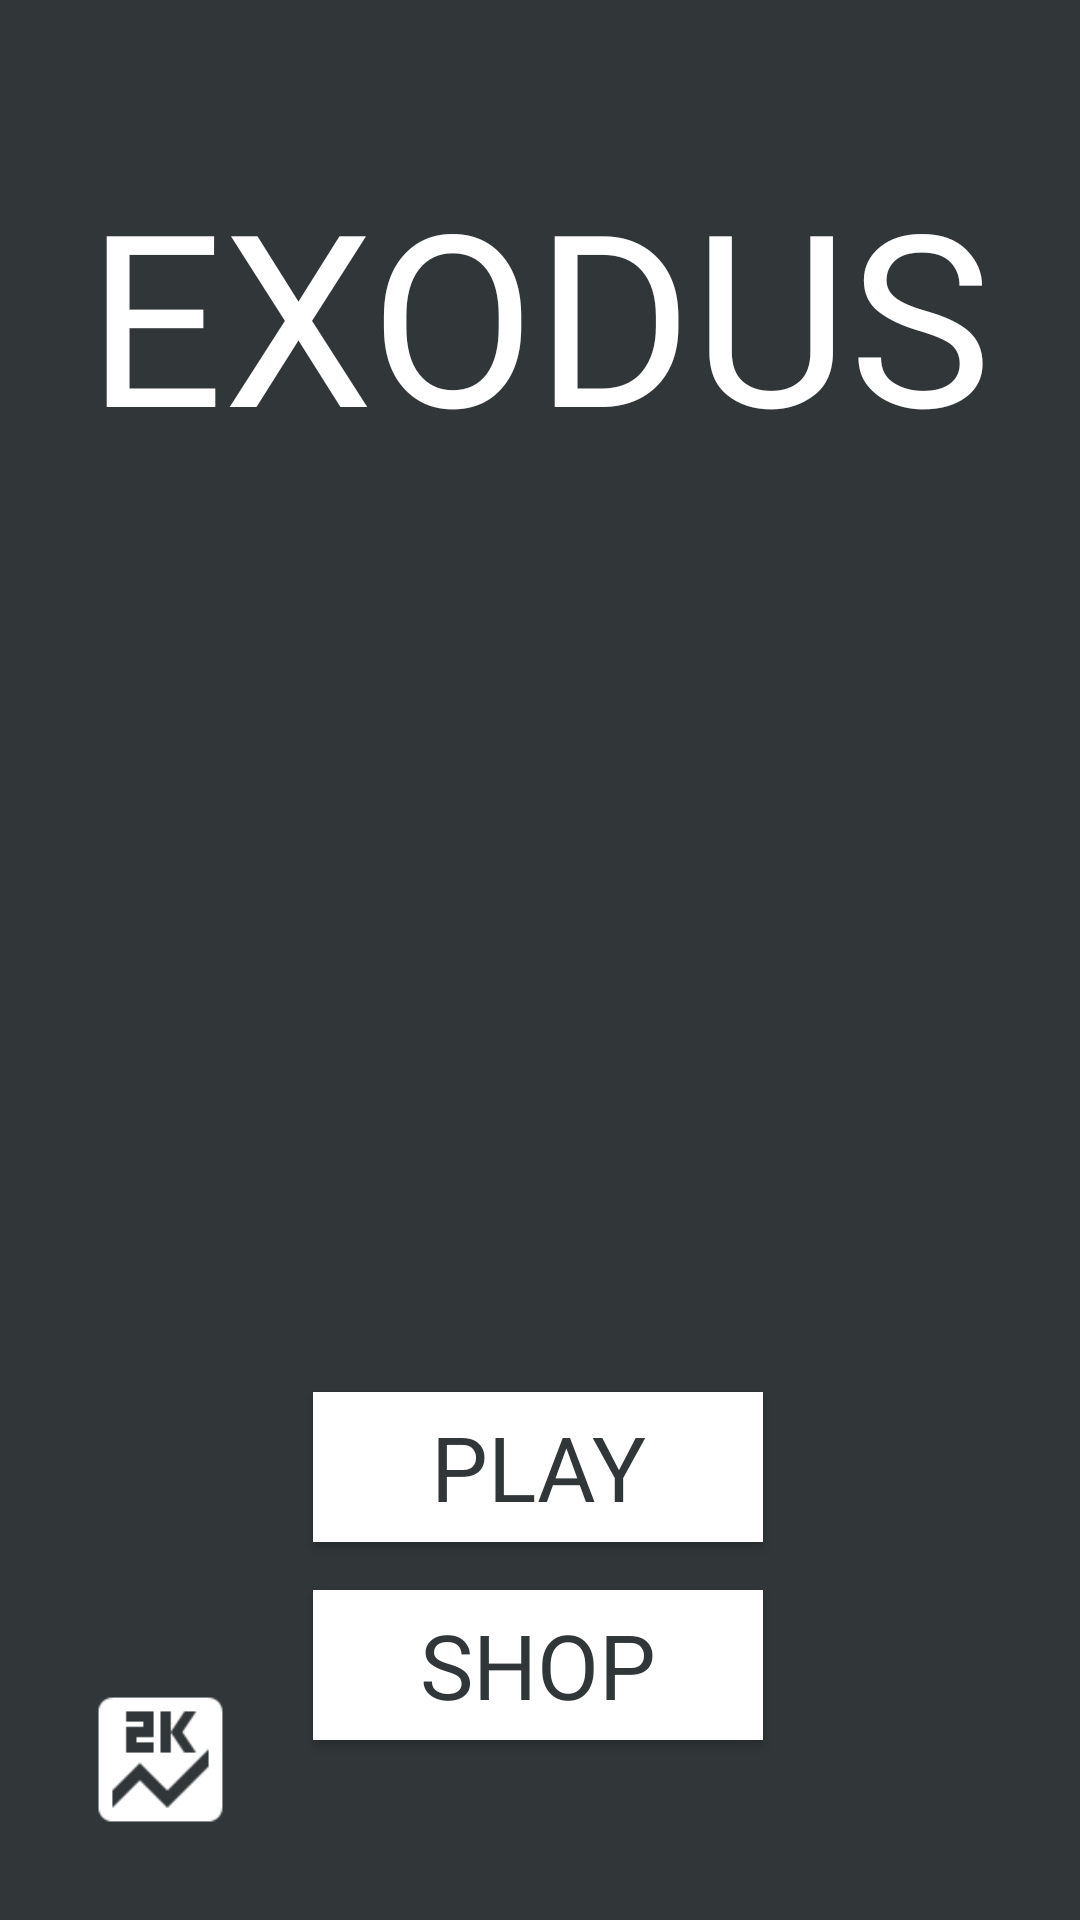

Screen size 1080 x 1920. Icon name, then its center in pixels as [x,y]:
highscore: [160,1759]
